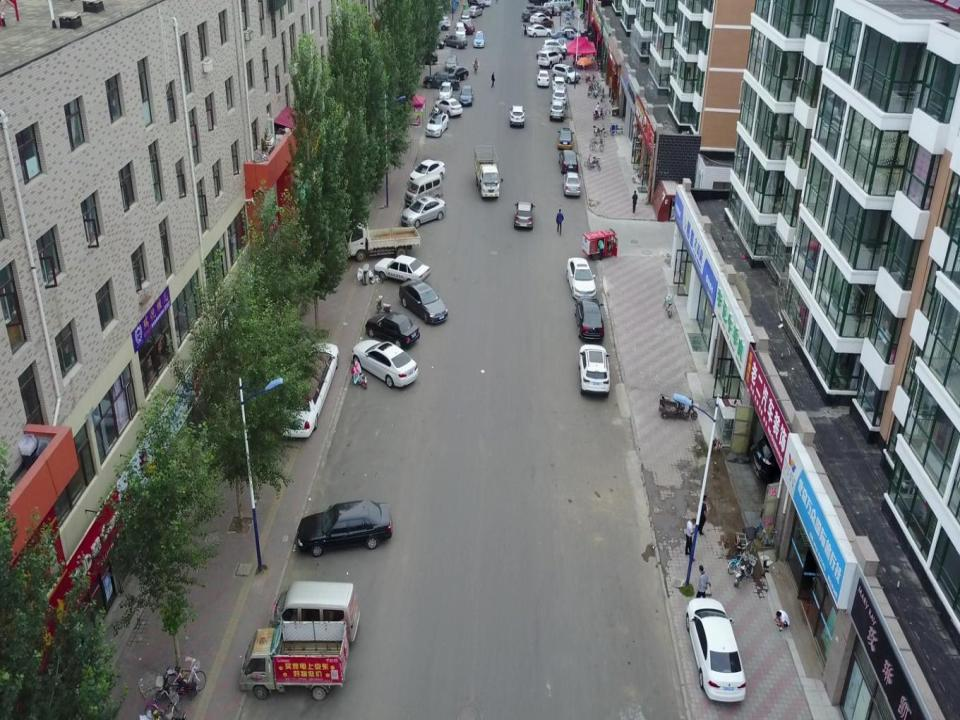car: (686, 597, 747, 703), (277, 342, 339, 438), (296, 499, 392, 556), (352, 339, 420, 389), (751, 436, 809, 484), (398, 278, 448, 324), (365, 310, 420, 346), (578, 344, 611, 396), (374, 255, 430, 284), (400, 194, 446, 229), (574, 297, 604, 341), (409, 159, 445, 187), (513, 200, 535, 229), (424, 112, 448, 138), (552, 63, 580, 83), (434, 98, 463, 117), (558, 149, 579, 173), (563, 171, 581, 198), (541, 38, 569, 55), (538, 49, 562, 68), (444, 66, 469, 84), (411, 50, 439, 65), (557, 127, 574, 150), (443, 33, 467, 49), (509, 104, 525, 128), (526, 5, 552, 19), (549, 100, 566, 121), (458, 85, 474, 107), (429, 15, 451, 31), (527, 23, 552, 36), (453, 21, 475, 35), (420, 38, 444, 50), (521, 8, 541, 22), (552, 88, 567, 106), (438, 82, 452, 101), (444, 54, 458, 72), (530, 12, 550, 24), (473, 30, 486, 48), (560, 24, 581, 35), (552, 31, 575, 41), (552, 76, 566, 92), (562, 29, 582, 40), (537, 70, 549, 88), (467, 5, 483, 18), (534, 17, 554, 27), (468, 0, 485, 9), (460, 14, 472, 26), (462, 8, 470, 20)
truck: (238, 618, 349, 700), (344, 218, 420, 262), (474, 144, 503, 199), (423, 71, 459, 90)
van: (268, 580, 360, 643), (404, 172, 443, 208), (454, 22, 466, 40)
